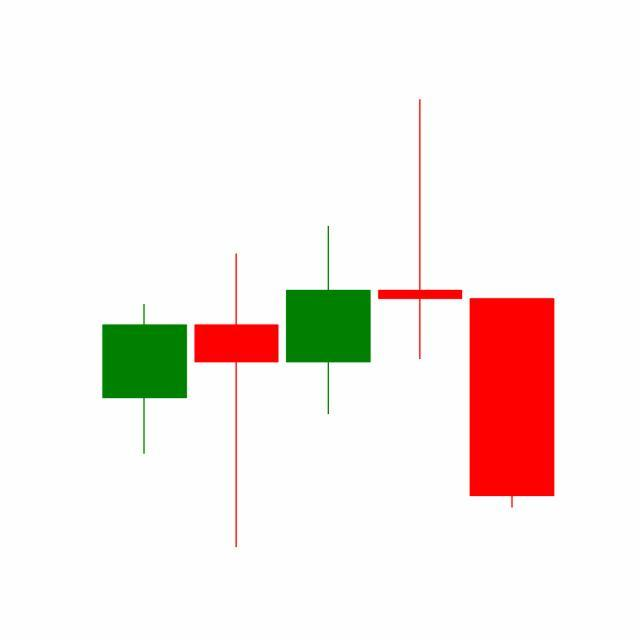Spinning Top: (374, 97, 468, 363)
